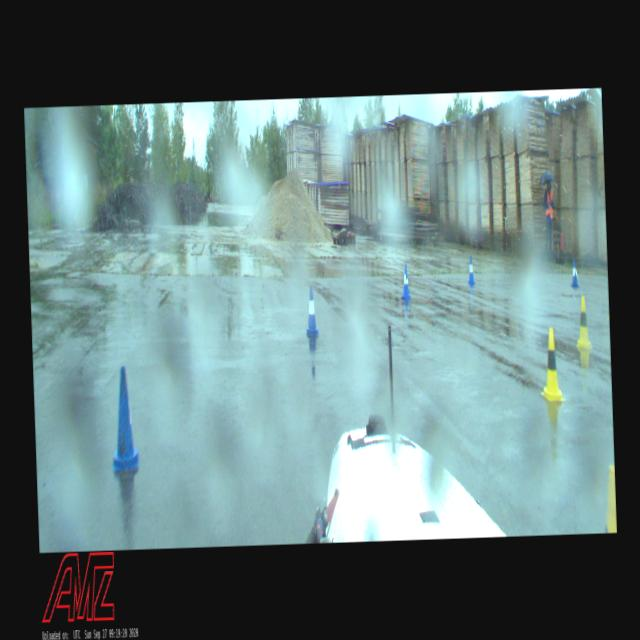blue_cone: (109, 367, 139, 470), (304, 285, 318, 335), (400, 262, 410, 298), (467, 255, 475, 282), (570, 259, 578, 286)
yellow_cone: (538, 327, 564, 401), (602, 467, 616, 532), (574, 296, 590, 350)
